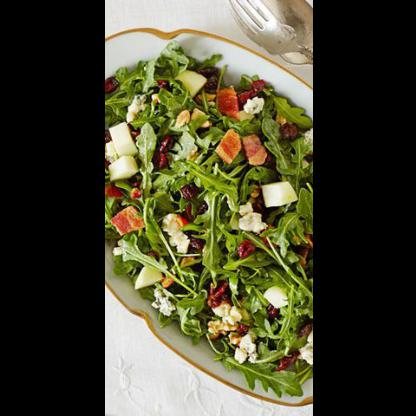salad: (104, 39, 310, 396)
